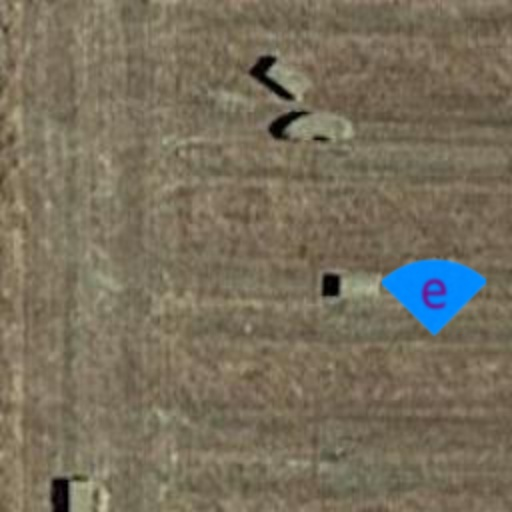quarter_circle: (382, 238, 486, 342)
